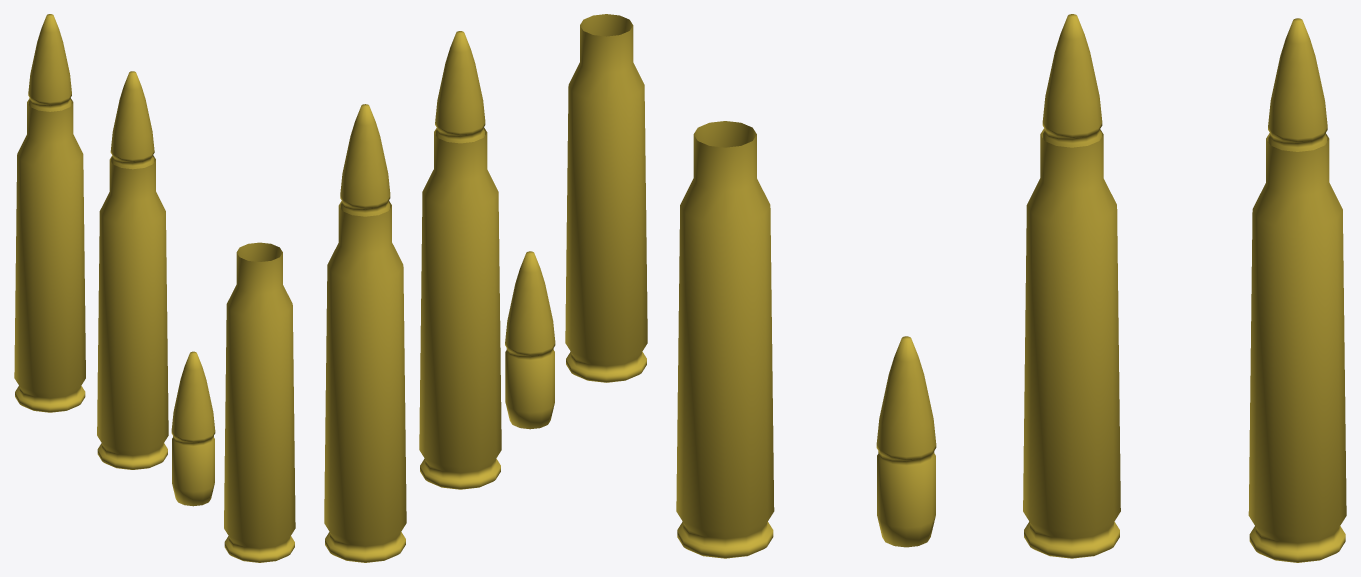
File: Bullet.fbx
3 views of the same model, side by side, from view 1: azimuth 30°, elevation 25°; view 2: azimuth 150°, elevation 25°; view 3: azimuth 270°, elevation 25° (orthographic). The views are drawn at different scales.
Visible parts, largest first — view 1: Casing.002, Casing.001, Casing, Bullet.001, Bullet; view 2: Casing.002, Casing.001, Casing, Bullet.001, Bullet; view 3: Casing.002, Casing.001, Casing, Bullet.001, Bullet.
Boxes of the visible parts, x1=… form: Casing.002: x1=14, y1=14, x2=85, y2=412; Casing.001: x1=224, y1=242, x2=295, y2=562; Casing: x1=97, y1=155, x2=168, y2=469; Bullet.001: x1=171, y1=351, x2=215, y2=506; Bullet: x1=110, y1=71, x2=154, y2=169; Casing.002: x1=324, y1=104, x2=406, y2=562; Casing.001: x1=565, y1=14, x2=647, y2=382; Casing: x1=419, y1=127, x2=501, y2=489; Bullet.001: x1=505, y1=251, x2=555, y2=429; Bullet: x1=435, y1=31, x2=485, y2=143; Casing.002: x1=1248, y1=18, x2=1346, y2=562; Casing.001: x1=676, y1=121, x2=774, y2=558; Casing: x1=1023, y1=128, x2=1120, y2=558; Bullet.001: x1=876, y1=336, x2=936, y2=547; Bullet: x1=1042, y1=14, x2=1102, y2=147.
Bounding box in the file's own units: 0.00964 × 0.0574 × 0.066.
